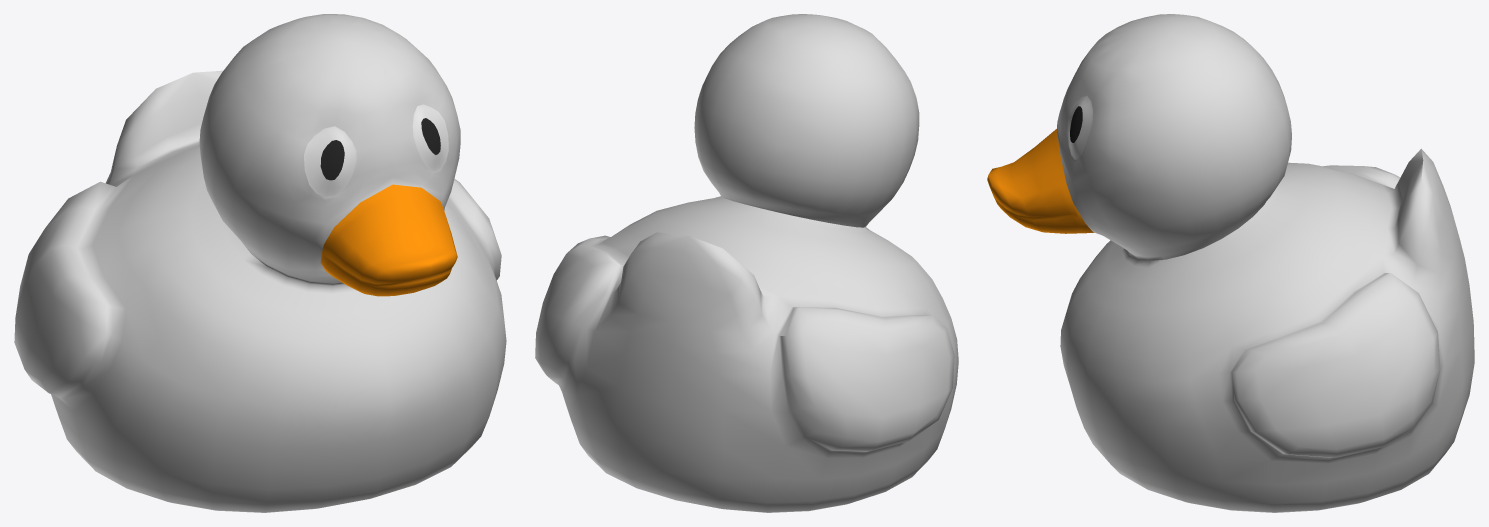
The model's file is Duck.fbx.
The picture shows the model from 3 angles, left to right: view 1: azimuth 30°, elevation 25°; view 2: azimuth 150°, elevation 25°; view 3: azimuth 270°, elevation 25°; orthographic projection. The views are drawn at different scales.
Parts seen in each view (by area): view 1: duckBody, duckBeak, duckEyes, duckPupils; view 2: duckBody; view 3: duckBody, duckBeak, duckEyes.
Boxes of the visible parts, bbox=[...] form: duckBody: bbox=[14, 14, 506, 512]; duckBeak: bbox=[320, 184, 457, 296]; duckEyes: bbox=[304, 104, 448, 197]; duckPupils: bbox=[320, 118, 440, 180]; duckBody: bbox=[535, 14, 958, 512]; duckBody: bbox=[1057, 14, 1474, 512]; duckBeak: bbox=[987, 129, 1094, 233]; duckEyes: bbox=[1067, 96, 1092, 159].
Bounding box in the file's own units: 356 × 346 × 370.
